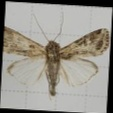Spodoptera litura: (2, 9, 109, 101)
